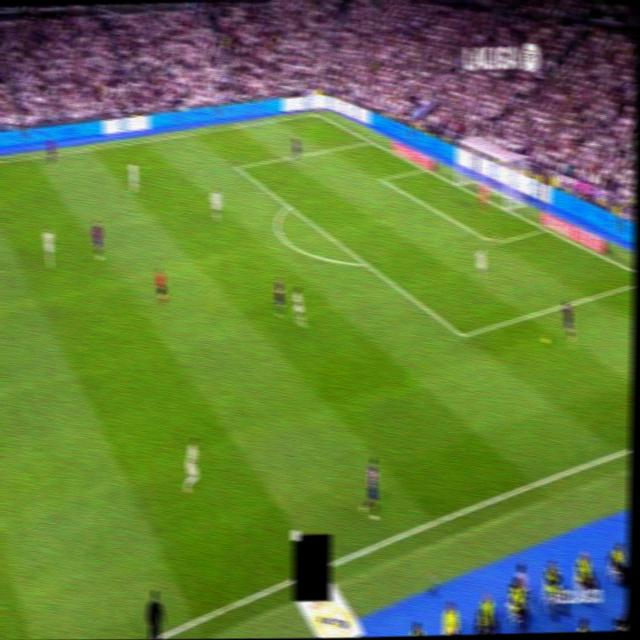bigarea_bottom_inner: (457, 324, 468, 346)
bigarea_top_inner: (233, 159, 241, 173)
bigarea_top_outter: (365, 132, 375, 145)
bottom_arc_area_intersection: (360, 254, 370, 270)
corner: (311, 108, 321, 118)
smallarea_bottom_inner: (488, 233, 499, 251)
smallarea_bottom_outter: (540, 221, 548, 233)
smallarea_top_inner: (376, 172, 386, 183)
top_arc_area_intersection: (284, 197, 293, 211)
